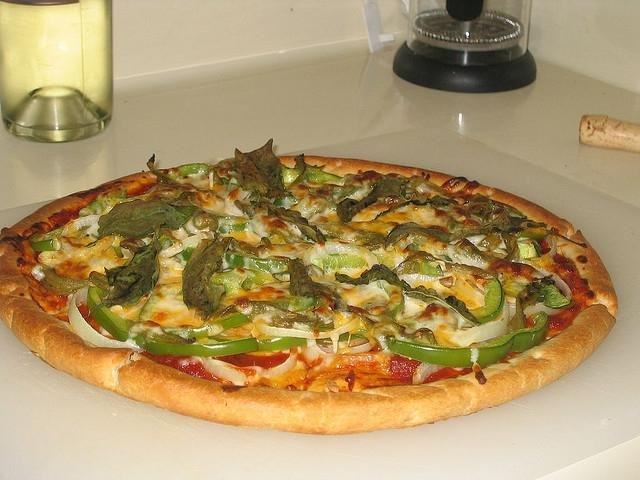bell pepper: (386, 310, 548, 368), (87, 286, 135, 342), (136, 334, 258, 356), (163, 312, 252, 339), (386, 226, 497, 247), (468, 278, 505, 324), (79, 184, 127, 216), (226, 252, 290, 274), (42, 267, 88, 296), (462, 201, 528, 219), (322, 253, 390, 270), (147, 154, 180, 186), (30, 224, 66, 252), (280, 154, 306, 189), (410, 171, 446, 196), (252, 336, 307, 352), (166, 163, 212, 181), (399, 259, 444, 277), (542, 284, 574, 309), (276, 295, 318, 312), (500, 229, 520, 262), (306, 169, 343, 184), (218, 222, 250, 234), (478, 235, 502, 251), (180, 246, 196, 262), (162, 238, 174, 249), (287, 196, 304, 201), (273, 198, 282, 206)
